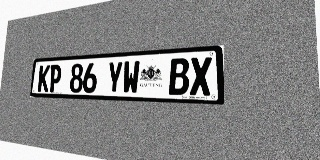6: (82, 62, 98, 93)
8: (69, 63, 84, 93)
B: (169, 58, 189, 95)
K: (37, 65, 50, 92)
P: (48, 64, 62, 92)
W: (122, 60, 140, 94)
X: (190, 57, 212, 96)
Y: (106, 61, 123, 94)
